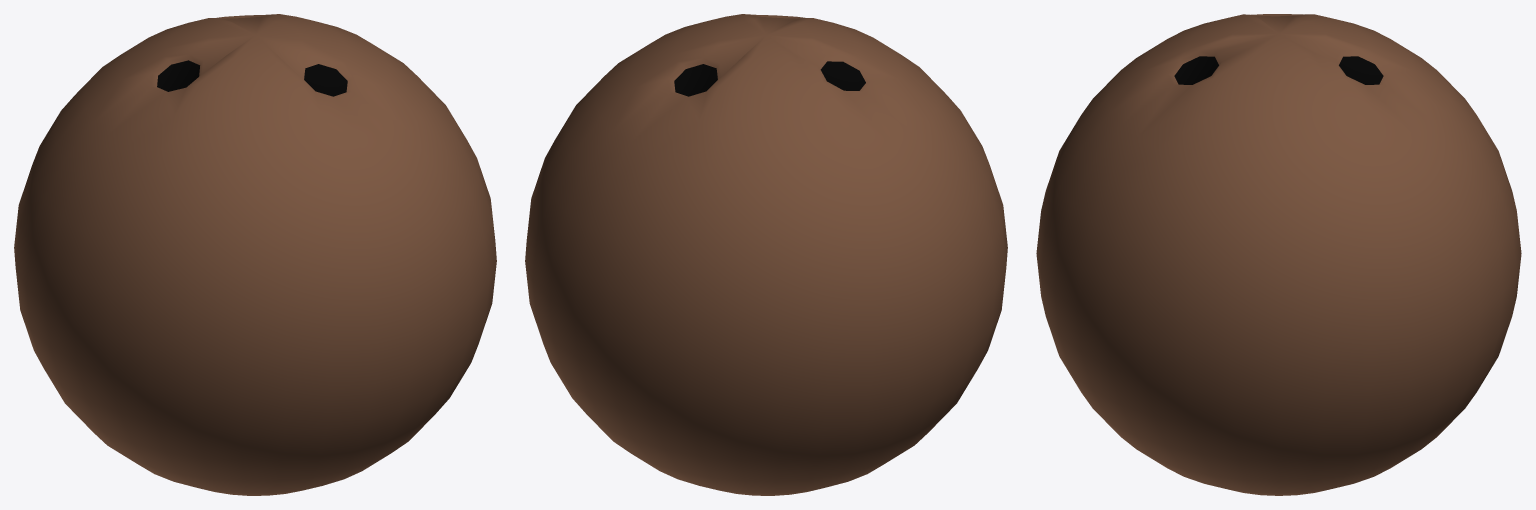
File: Coconut Ball.glb
The picture shows the model from 3 angles, left to right: view 1: azimuth 30°, elevation 25°; view 2: azimuth 150°, elevation 25°; view 3: azimuth 270°, elevation 25°; orthographic projection.
Visible parts, largest first — view 1: Coconut Ball.001; view 2: Coconut Ball.001; view 3: Coconut Ball.001.
Boxes of the visible parts, box(x1,y1,x2,y2) form: Coconut Ball.001: box(14, 14, 496, 495); Coconut Ball.001: box(525, 14, 1007, 495); Coconut Ball.001: box(1036, 14, 1521, 495).
Size of the model in its own units: 0.12 by 0.12 by 0.12.
